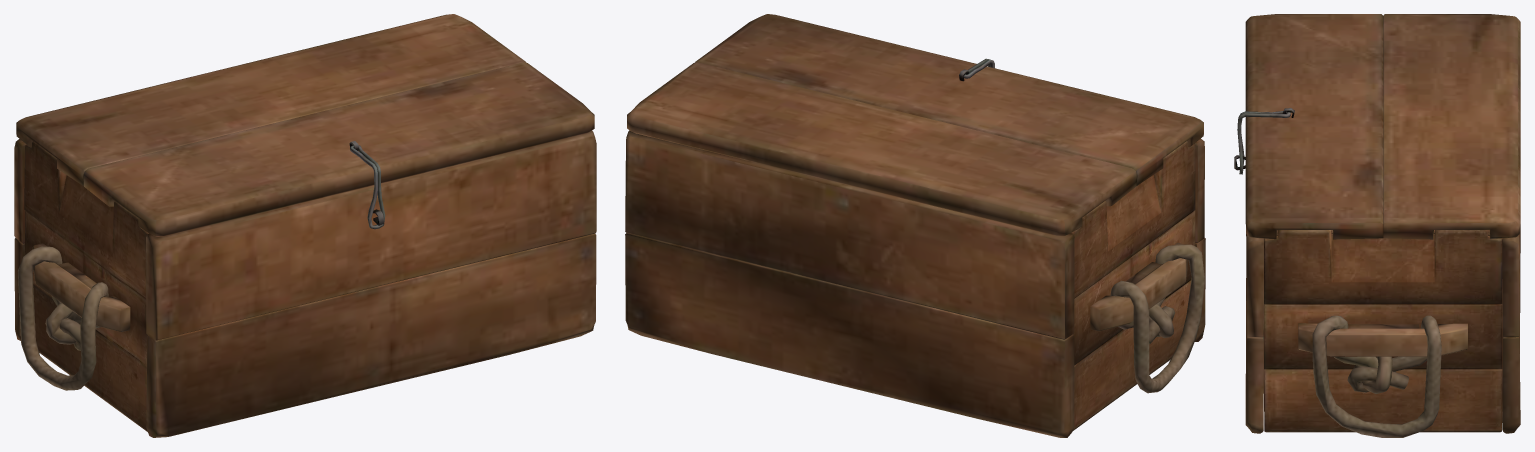
Rendered from wooden_crate_01.glb.
The picture shows the model from 3 angles, left to right: view 1: azimuth 30°, elevation 25°; view 2: azimuth 150°, elevation 25°; view 3: azimuth 270°, elevation 25°; orthographic projection. The views are drawn at different scales.
Visible parts, largest first — view 1: wooden_crate_01, wooden_crate_01_lid, wooden_crate_01_latch; view 2: wooden_crate_01, wooden_crate_01_lid; view 3: wooden_crate_01_lid, wooden_crate_01, wooden_crate_01_latch.
Boxes of the visible parts, x1,y1,x2,y2 form: wooden_crate_01: [14, 131, 596, 437]; wooden_crate_01_lid: [16, 14, 594, 236]; wooden_crate_01_latch: [350, 145, 385, 229]; wooden_crate_01: [625, 130, 1205, 437]; wooden_crate_01_lid: [627, 14, 1203, 236]; wooden_crate_01_lid: [1245, 14, 1520, 239]; wooden_crate_01: [1234, 155, 1520, 437]; wooden_crate_01_latch: [1237, 111, 1290, 174].
Size of the model in its own units: 0.8245 by 0.3495 by 0.407.
1 material, 1 textured.
